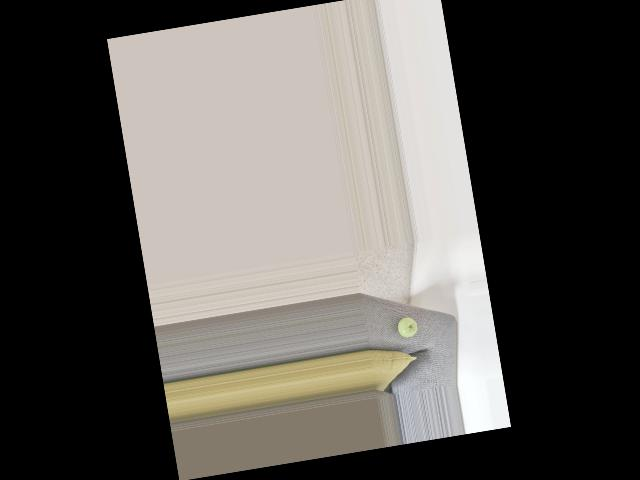apple: (394, 315, 419, 340)
